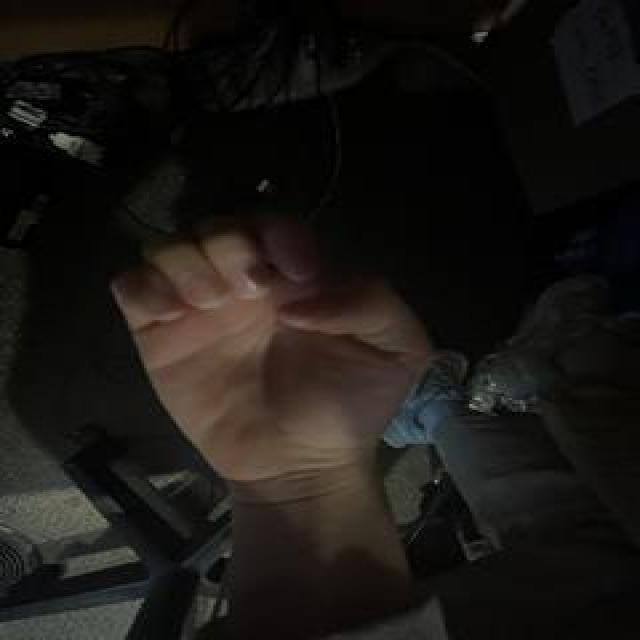E: (100, 179, 447, 487)
